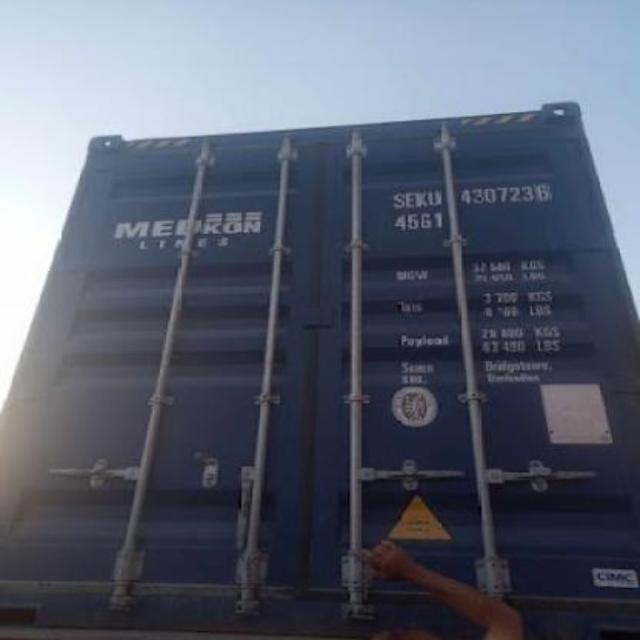0: (482, 182, 496, 205)
2: (508, 179, 520, 205)
3: (470, 181, 482, 207), (520, 178, 532, 204)
4: (458, 183, 470, 207)
6: (534, 176, 548, 202)
7: (494, 182, 508, 204)
E: (404, 184, 414, 210)
K: (414, 182, 426, 210)
S: (388, 186, 404, 208)
U: (426, 184, 439, 206)
